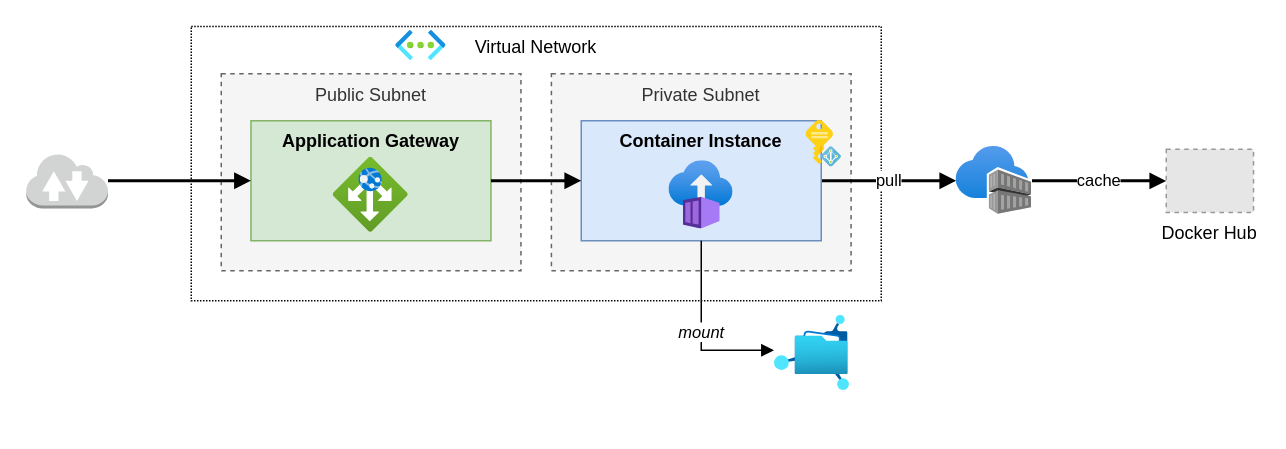
This 1286x449 diagram has some shape labels left out. Grey dashed boxes stand in for pictures. The shapes that lost their labels are listed below. From the top down, each one's centre as x and y in pixels, then its label:
At pixel 66 180: "Internet".
At pixel 993 180: "Container Registry".
At pixel 811 352: "Azure Files".
